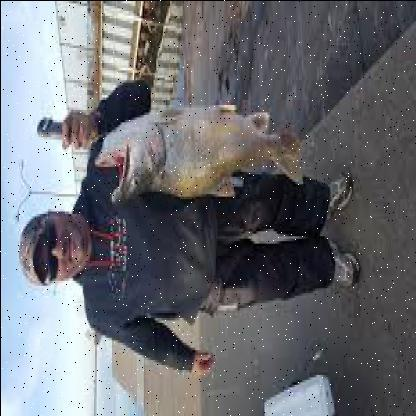fish: (94, 93, 308, 209)
